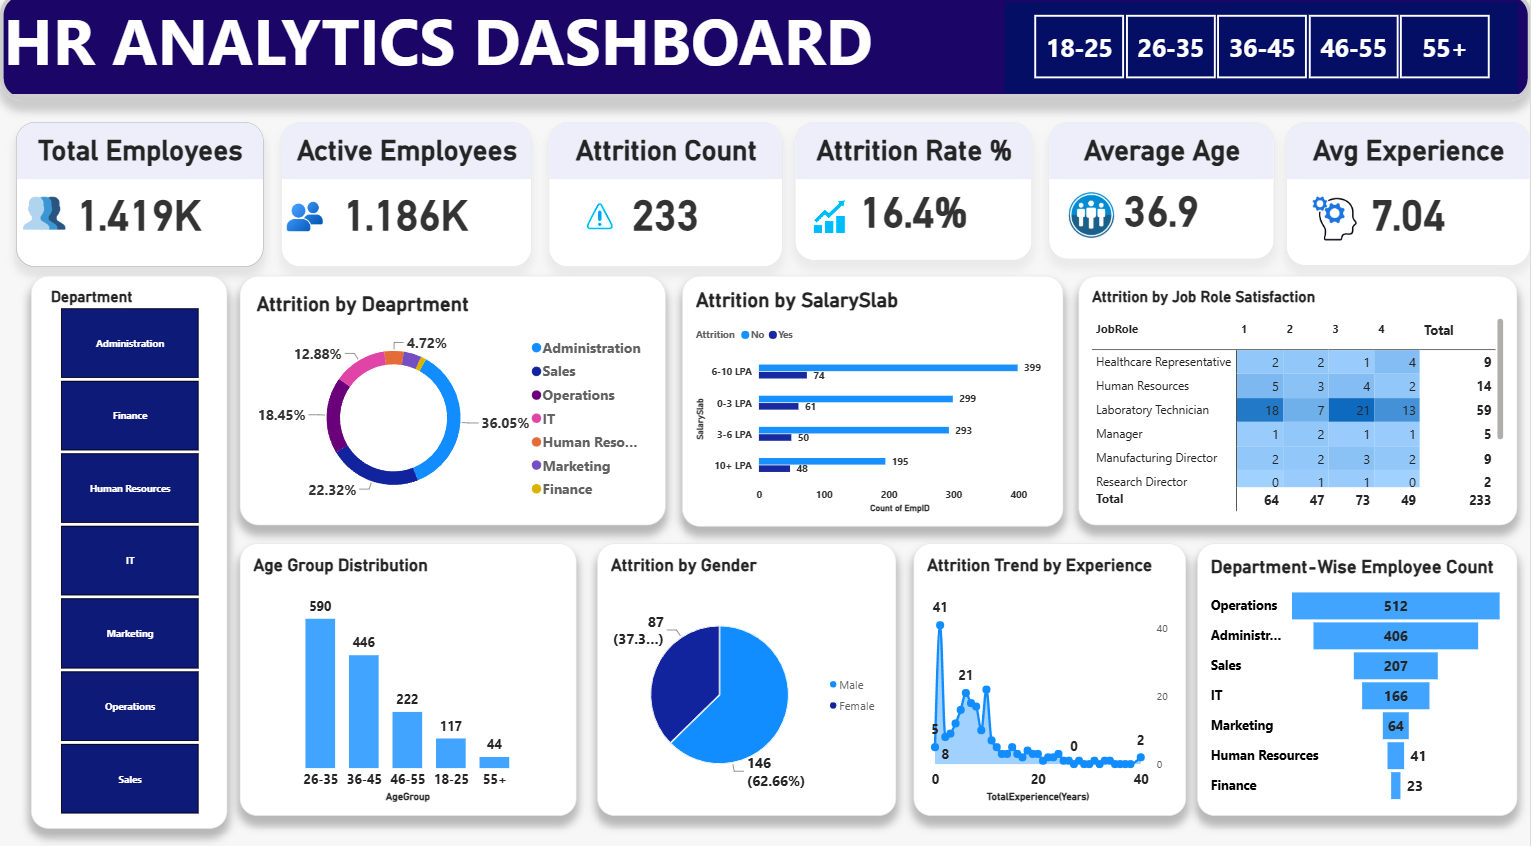

The page's visual inventory and layout, read from the dashboard file:
{"tool":"powerbi","page":{"name":"Page 1","canvas":[1920,1080],"ordinal":0},"visuals":[{"type":"textbox","title":"     HR ANALYTICS DASHBOARD","box":[10.3,0,1910.1,135.8],"z":0},{"type":"advanceCardE03760C5AB684758B56AA29F9E6C257B","title":"Total Employees","fields":{"mainMeasure":["CountNonNull(HR_Analytics-4.EmpID)"]},"box":[30.9,162.6,308.7,181.1],"z":1000},{"type":"advanceCardE03760C5AB684758B56AA29F9E6C257B","title":"Active Employees","fields":{"mainMeasure":["CountNonNull(HR_Analytics-4.EmployeeCount)"]},"box":[362.3,162.6,312.9,181.1],"z":2000},{"type":"advanceCardE03760C5AB684758B56AA29F9E6C257B","title":"Attrition Count ","fields":{"mainMeasure":["Sum(HR_Analytics-4.Attrition Count)"]},"box":[695.7,162.6,292.3,181.1],"z":3000},{"type":"advanceCardE03760C5AB684758B56AA29F9E6C257B","title":"Average Age","fields":{"mainMeasure":["Avg(HR_Analytics-4.Age)"]},"box":[1319.4,162.6,282,170.8],"z":4000},{"type":"advanceCardE03760C5AB684758B56AA29F9E6C257B","title":"Attrition Rate %","fields":{"mainMeasure":["HR_Analytics-4.Attrition Rate %"]},"box":[1002.4,162.6,296.4,172.9],"z":5000},{"type":"advanceCardE03760C5AB684758B56AA29F9E6C257B","title":"Avg Experience ","fields":{"mainMeasure":["Avg(HR_Analytics-4.YearsatCompany)"]},"box":[1615.8,162.6,304.6,179.1],"z":6000},{"type":"image","box":[31.2,249.4,70.2,53],"z":7000},{"type":"image","box":[361.7,257.2,59.2,45.2],"z":8000},{"type":"image","box":[729.6,263.5,59.2,32.7],"z":9000},{"type":"image","box":[1022.6,241.6,45.2,77.9],"z":10000},{"type":"image","box":[1337.9,207.9,70,142],"z":11000},{"type":"image","box":[1644.6,212,61.7,140],"z":12000},{"type":"donutChart","title":"Attrition by Deaprtment","fields":{"Category":["HR_Analytics-4.Department"],"Y":["Sum(HR_Analytics-4.Attrition Count)"]},"box":[310.8,354,531,310.8],"z":13000},{"type":"clusteredBarChart","title":"Attrition by SalarySlab","fields":{"Category":["HR_Analytics-4.SalarySlab"],"Series":["HR_Analytics-4.Attrition"],"Y":["CountNonNull(HR_Analytics-4.EmpID)"]},"box":[862.4,354,475.5,312.9],"z":14000},{"type":"pivotTable","title":"Attrition by Job Role Satisfaction ","fields":{"Columns":["HR_Analytics-4.JobSatisfaction"],"Rows":["HR_Analytics-4.JobRole"],"Values":["Sum(HR_Analytics-4.Attrition Count)"]},"box":[1356.4,354,547.5,310.8],"z":15000},{"type":"columnChart","title":" Age Group Distribution","fields":{"Category":["HR_Analytics-4.AgeGroup"],"Y":["Sum(HR_Analytics-4.EmployeeCount)"]},"box":[310.8,687.5,419.9,339.6],"z":16000},{"type":"pieChart","title":"Attrition by Gender","fields":{"Category":["HR_Analytics-4.Gender"],"Y":["Sum(HR_Analytics-4.Attrition Count)"]},"box":[755.4,687.5,372.6,339.6],"z":17000},{"type":"areaChart","title":"Attrition Trend by Experience","fields":{"Category":["HR_Analytics-4.TotalExperience(Years)"],"Y2":["Sum(HR_Analytics-4.Attrition Count)"]},"box":[1150.6,687.5,339.6,339.6],"z":18000},{"type":"funnel","title":"Department-Wise Employee Count","fields":{"Category":["HR_Analytics-4.Department"],"Y":["Sum(HR_Analytics-4.EmployeeCount)"]},"box":[1504.6,687.5,399.3,339.6],"z":19000},{"type":"slicer","fields":{"Values":["HR_Analytics-4.Department"]},"box":[49.4,354,244.9,689.5],"z":20000},{"type":"slicer","title":"Age Group","fields":{"Values":["HR_Analytics-4.AgeGroup"]},"box":[1263.8,12.3,640.1,113.2],"z":21000}]}

Visuals, with their boxes in screenshot pixels (x1, y1, x2, y2), scaled from the page's 1920x1080 canvas onto the 1531x846 screenshot:
"     HR ANALYTICS DASHBOARD" textbox: {"left": 8, "top": 0, "right": 1530, "bottom": 106}
"Total Employees" advanceCardE03760C5AB684758B56AA29F9E6C257B: {"left": 25, "top": 127, "right": 271, "bottom": 269}
"Active Employees" advanceCardE03760C5AB684758B56AA29F9E6C257B: {"left": 289, "top": 127, "right": 538, "bottom": 269}
"Attrition Count " advanceCardE03760C5AB684758B56AA29F9E6C257B: {"left": 555, "top": 127, "right": 788, "bottom": 269}
"Average Age" advanceCardE03760C5AB684758B56AA29F9E6C257B: {"left": 1052, "top": 127, "right": 1277, "bottom": 261}
"Attrition Rate %" advanceCardE03760C5AB684758B56AA29F9E6C257B: {"left": 799, "top": 127, "right": 1036, "bottom": 263}
"Avg Experience " advanceCardE03760C5AB684758B56AA29F9E6C257B: {"left": 1288, "top": 127, "right": 1530, "bottom": 268}
image: {"left": 25, "top": 195, "right": 81, "bottom": 237}
image: {"left": 288, "top": 201, "right": 336, "bottom": 237}
image: {"left": 582, "top": 206, "right": 629, "bottom": 232}
image: {"left": 815, "top": 189, "right": 851, "bottom": 250}
image: {"left": 1067, "top": 163, "right": 1123, "bottom": 274}
image: {"left": 1311, "top": 166, "right": 1361, "bottom": 276}
"Attrition by Deaprtment" donutChart: {"left": 248, "top": 277, "right": 671, "bottom": 521}
"Attrition by SalarySlab" clusteredBarChart: {"left": 688, "top": 277, "right": 1067, "bottom": 522}
"Attrition by Job Role Satisfaction " pivotTable: {"left": 1082, "top": 277, "right": 1518, "bottom": 521}
" Age Group Distribution" columnChart: {"left": 248, "top": 539, "right": 583, "bottom": 805}
"Attrition by Gender" pieChart: {"left": 602, "top": 539, "right": 899, "bottom": 805}
"Attrition Trend by Experience" areaChart: {"left": 917, "top": 539, "right": 1188, "bottom": 805}
"Department-Wise Employee Count" funnel: {"left": 1200, "top": 539, "right": 1518, "bottom": 805}
slicer - HR_Analytics-4.Department: {"left": 39, "top": 277, "right": 235, "bottom": 817}
"Age Group" slicer: {"left": 1008, "top": 10, "right": 1518, "bottom": 98}
